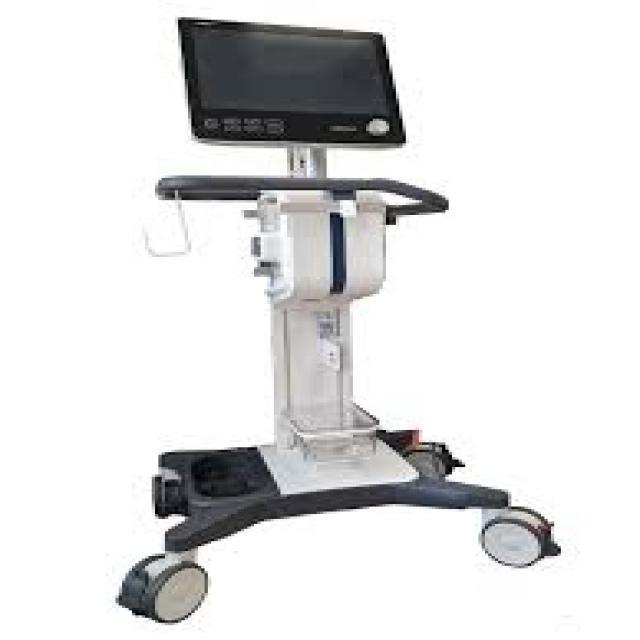ventilator: (133, 11, 505, 526)
